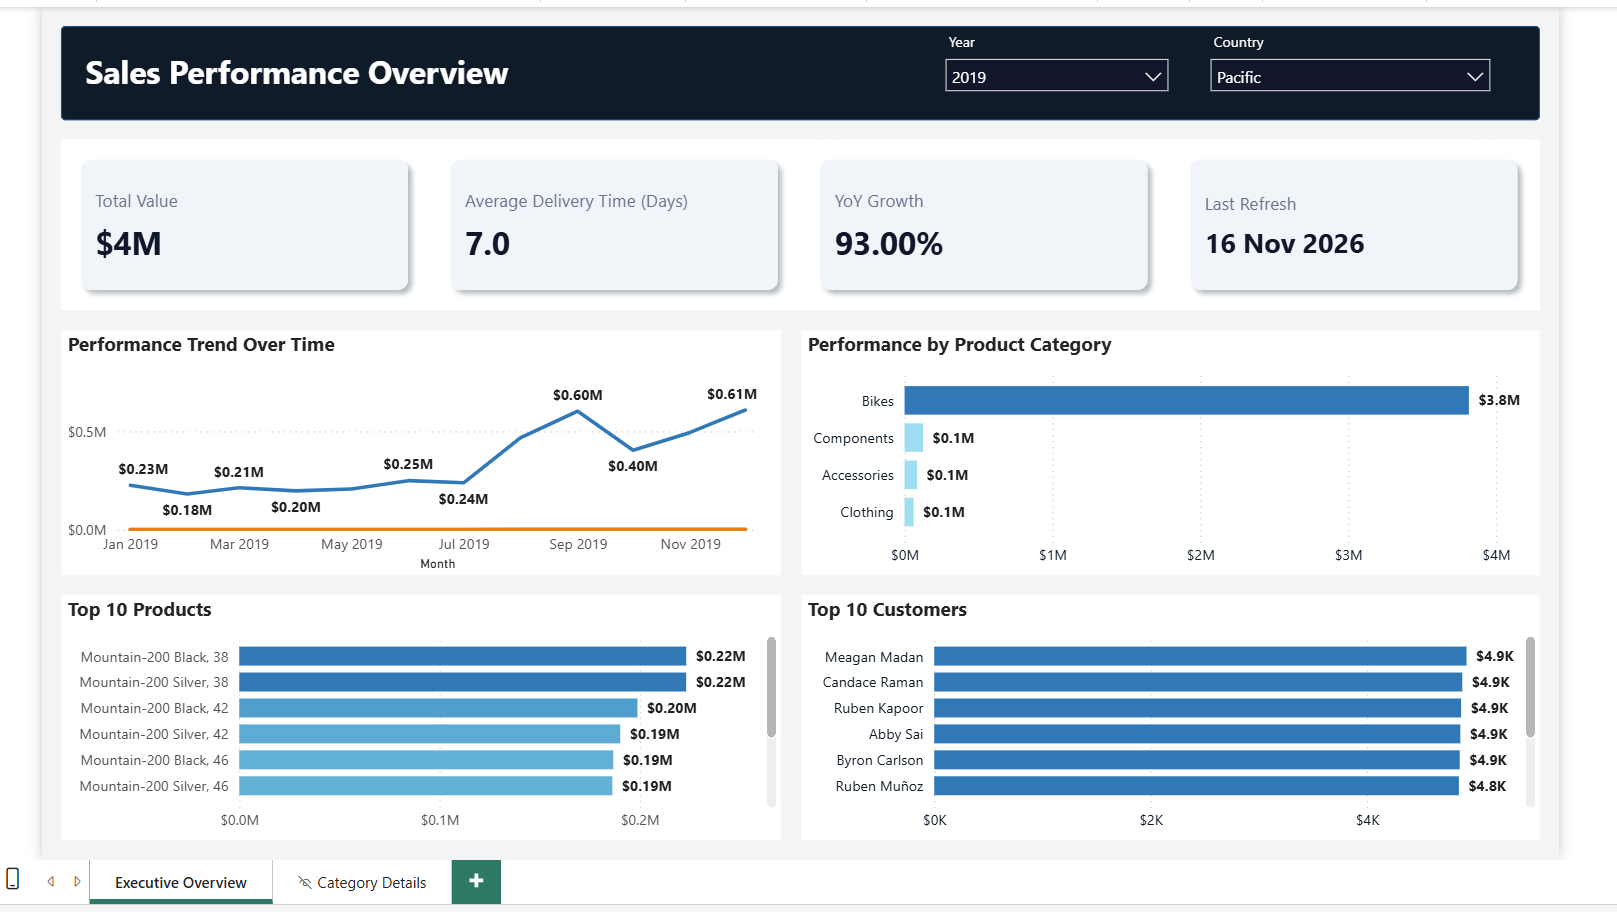

Layout of this report page (visuals, bound fields, positions):
{"tool":"powerbi","page":{"name":"Executive Overview","canvas":[1280,720],"ordinal":0},"visuals":[{"type":"shape","box":[16,16,1248,80],"z":0,"group":"g1"},{"type":"cardVisual","fields":{"Data":["-Measures.Selected Metric","-Measures.Avg Shipping Days","-Measures.Sales YoY %","-Measures.Last Refresh Text"]},"box":[16,112,1248,144],"z":0},{"type":"shape","box":[16,16,1248,80],"z":1000,"group":"g1"},{"type":"lineChart","title":"Performance Trend Over Time","fields":{"Category":["Date.Month"],"Y":["-Measures.Total Sales","-Measures.Total Quantity","-Measures.Avg Shipping Days"]},"box":[16,272,608,208],"z":1000},{"type":"textbox","box":[32,32,512,48],"z":2000,"group":"g1"},{"type":"clusteredBarChart","title":"Performance by Product Category","fields":{"Category":["Category.Category"],"Y":["-Measures.Total Sales"]},"box":[640,272,624,208],"z":2000},{"type":"slicer","fields":{"Values":["Date.Calendar Year"]},"box":[752,16,208,96],"z":3000,"group":"g1"},{"type":"clusteredBarChart","title":"Top 10 Products","fields":{"Category":["Product.Product"],"Y":["-Measures.Total Sales"]},"box":[16,496,608,208],"z":3000},{"type":"slicer","fields":{"Values":["Sales Territory.Group","Sales Territory.Country"]},"box":[976,16,256,64],"z":4000,"group":"g1"},{"type":"clusteredBarChart","title":"Top 10 Customers","fields":{"Category":["Customer.Customer"],"Y":["-Measures.Total Sales"]},"box":[640,496,624,208],"z":4000},{"type":"cardVisual","fields":{"Data":["-Measures.No Data Warning"]},"box":[16,432,1248,64],"z":5000},{"type":"group","id":"g1","title":"Group 1","box":[16,16,1248,96],"z":6000}]}

Visuals, with their boxes on the page's 1280x720 design canvas (x1, y1, x2, y2). These are canvas units, not pixel positions in the 1617x912 screenshot, which may show the page scaled, cropped or inside an application window:
shape: BBox(16, 16, 1264, 96)
cardVisual - -Measures.Selected Metric x -Measures.Avg Shipping Days: BBox(16, 112, 1264, 256)
shape: BBox(16, 16, 1264, 96)
"Performance Trend Over Time" lineChart: BBox(16, 272, 624, 480)
textbox: BBox(32, 32, 544, 80)
"Performance by Product Category" clusteredBarChart: BBox(640, 272, 1264, 480)
slicer - Date.Calendar Year: BBox(752, 16, 960, 112)
"Top 10 Products" clusteredBarChart: BBox(16, 496, 624, 704)
slicer - Sales Territory.Group x Sales Territory.Country: BBox(976, 16, 1232, 80)
"Top 10 Customers" clusteredBarChart: BBox(640, 496, 1264, 704)
cardVisual - -Measures.No Data Warning: BBox(16, 432, 1264, 496)
"Group 1" group: BBox(16, 16, 1264, 112)
